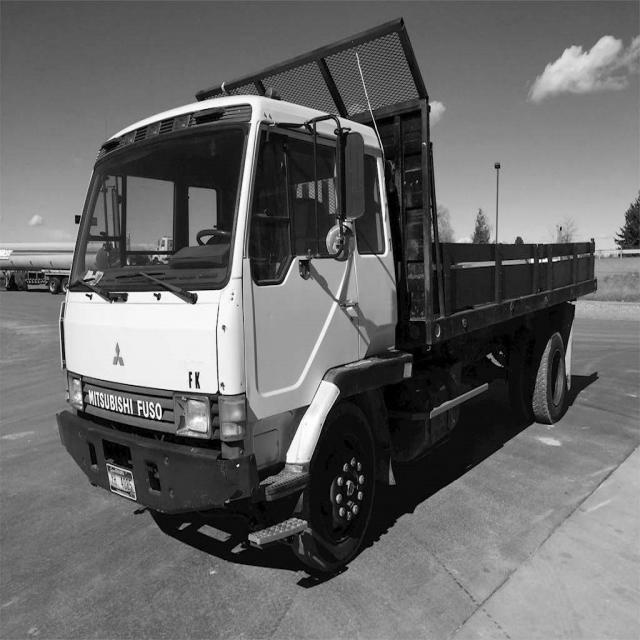truck: (38, 64, 438, 572)
